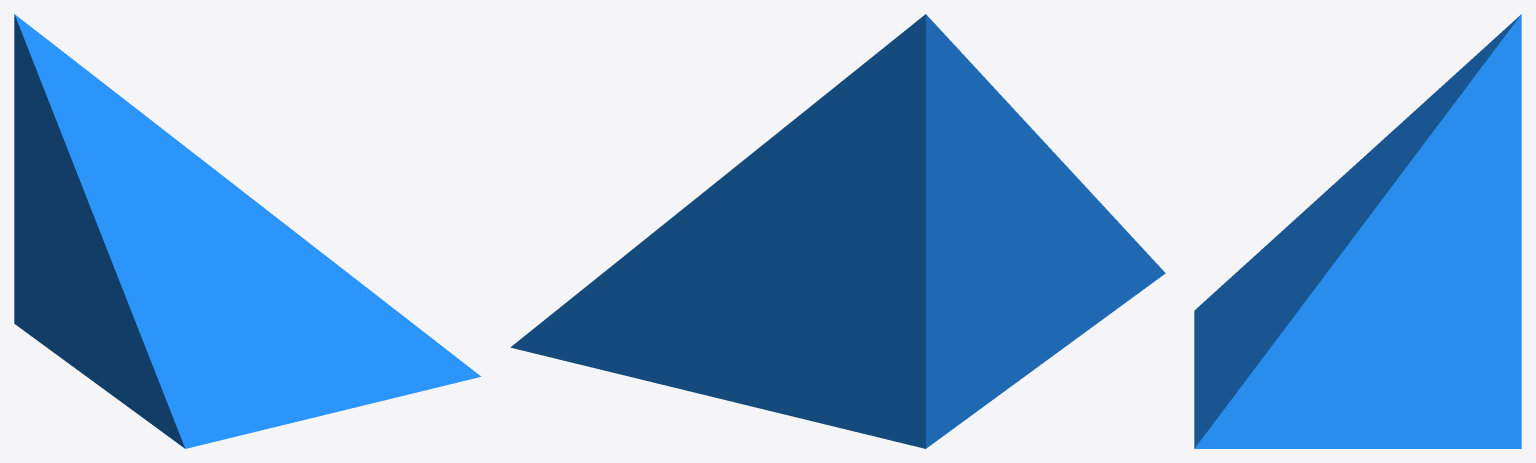
File: Proto_Block_Triangle_Peak_Corner_03.fbx
3 renders of one model, left to right at view 1: azimuth 30°, elevation 25°; view 2: azimuth 150°, elevation 25°; view 3: azimuth 270°, elevation 25°, orthographic. The views are drawn at different scales.
Parts seen in each view (by area): view 1: Proto_Block_Triangle_Peak_Corner_03; view 2: Proto_Block_Triangle_Peak_Corner_03; view 3: Proto_Block_Triangle_Peak_Corner_03.
Boxes of the visible parts, left/top/right/bottom form: Proto_Block_Triangle_Peak_Corner_03: left=14, top=14, right=481, bottom=448; Proto_Block_Triangle_Peak_Corner_03: left=510, top=14, right=1165, bottom=448; Proto_Block_Triangle_Peak_Corner_03: left=1194, top=14, right=1521, bottom=448.
Size of the model in its own units: 1 by 1 by 1.
